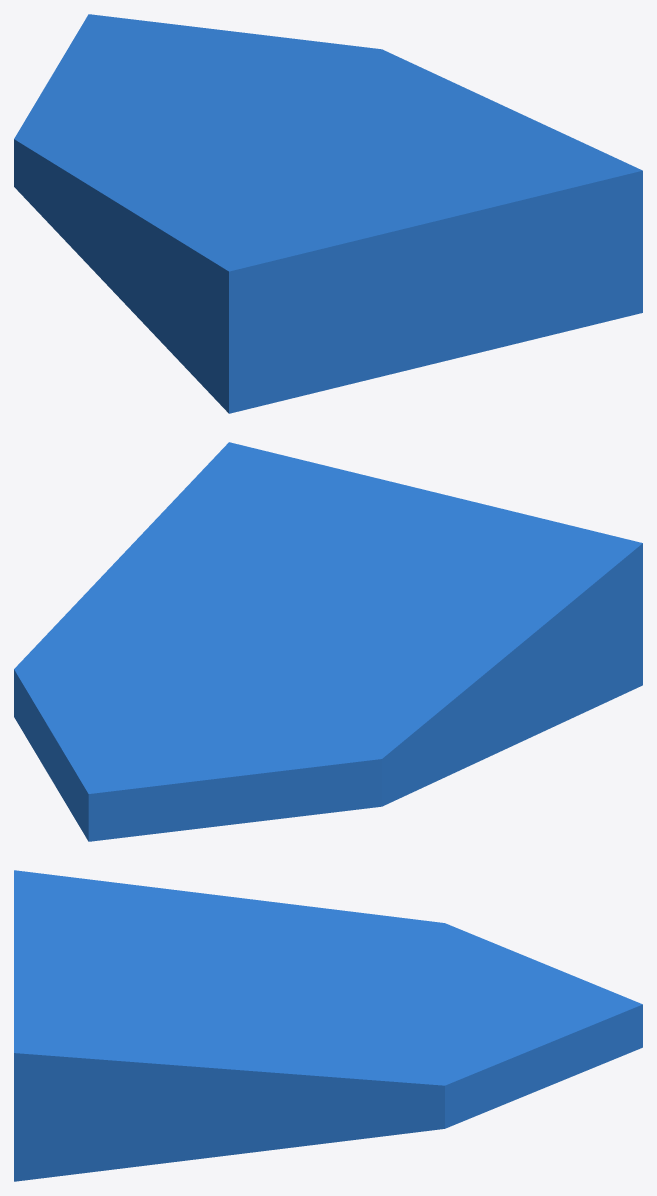
File: piece_blue.gltf
The picture shows the model from 3 angles, top to bottom: view 1: azimuth 30°, elevation 25°; view 2: azimuth 150°, elevation 25°; view 3: azimuth 270°, elevation 25°; orthographic projection. The views are drawn at different scales.
Visible parts, largest first — view 1: Cube; view 2: Cube; view 3: Cube.
Part boxes in pixels (bbox=[...]): Cube: bbox=[14, 14, 642, 413]; Cube: bbox=[14, 442, 642, 841]; Cube: bbox=[14, 870, 642, 1181].
Bounding box in the file's own units: 0.6994 × 0.2297 × 1.02.
